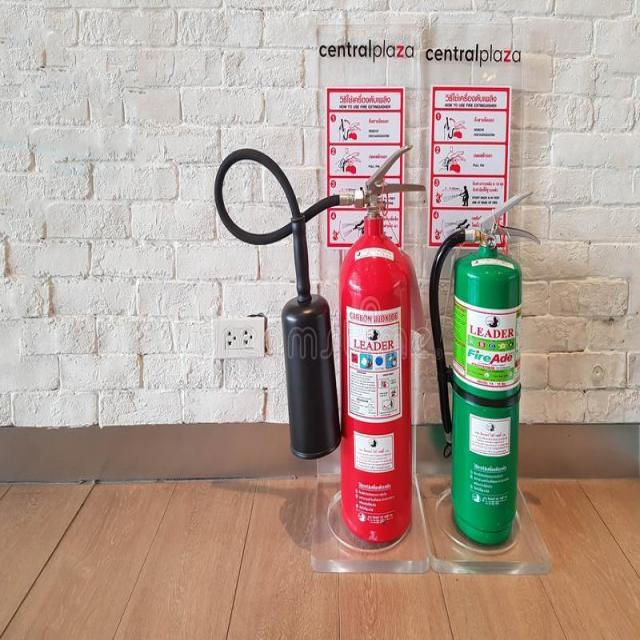fire_extinguisher: (208, 130, 430, 558), (424, 183, 543, 550)
